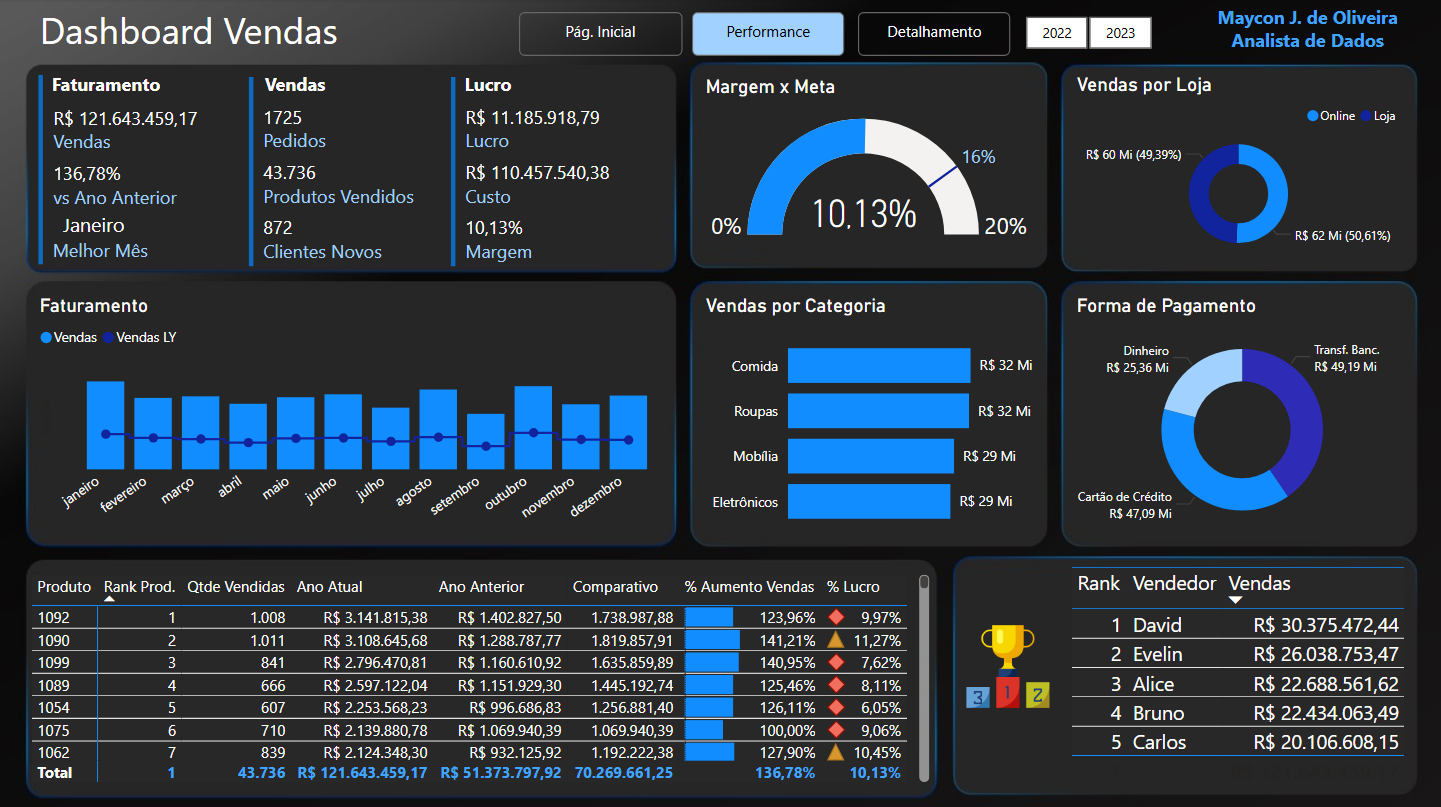

This screenshot's page, from the dashboard's own definition file:
{"tool":"powerbi","page":{"name":"Performance","canvas":[1280,720],"ordinal":1},"visuals":[{"type":"gauge","title":"Margem x Meta","fields":{"Y":["#Medidas.Margem"],"TargetValue":["#Medidas.Meta"]},"box":[621.8,67.3,300.9,166.4],"z":0},{"type":"lineStackedColumnComboChart","title":"Faturamento","fields":{"Y":["#Medidas.Faturamento"],"Y2":["#Medidas.Vendas LY"],"Category":["dim_calendario.Date.Variation.Hierarquia de datas.Mês"]},"box":[30.9,261.8,566.4,214.5],"z":1000},{"type":"barChart","fields":{"Y":["#Medidas.Vendas"],"Category":["Vendas.Categoria"]},"box":[621.8,261.8,308.2,221.8],"z":2000},{"type":"donutChart","fields":{"Y":["#Medidas.Vendas"],"Category":["Vendas.Loja"]},"box":[950.9,65.5,297.3,168.2],"z":3000},{"type":"pivotTable","fields":{"Rows":["Base_Vendas.Produto_ID"],"Values":["#Medidas.Rank Produtos","#Medidas.Produtos_Vendidos","#Medidas.Vendas","#Medidas.Vendas LY","#Medidas.Vendas LY Delta","#Medidas.Vendas LY Delta %","#Medidas.Margem"]},"box":[23.9,505.4,806,194.2],"z":4000},{"type":"donutChart","title":"Forma de Pagamento","fields":{"Category":["Vendas.Pagamento"],"Y":["#Medidas.Vendas"]},"box":[950.9,261.8,303.6,221.8],"z":5000},{"type":"multiRowCard","fields":{"Values":["#Medidas.Vendas","#Medidas.Vendas LY Delta %"]},"box":[30.9,90,156.4,171.8],"z":6000},{"type":"multiRowCard","fields":{"Values":["#Medidas.Pedidos","#Medidas.Produtos_Vendidos","#Medidas.Clientes_Novos"]},"box":[217.3,89.1,178.2,172.7],"z":7000},{"type":"multiRowCard","fields":{"Values":["#Medidas.Profit/Lucro","#Medidas.Custo Vendas","#Medidas.Margem Bruta"]},"box":[396.4,89.1,164.5,160.9],"z":8000},{"type":"card","fields":{"Values":["Min(dim_calendario.Nome do Mês)"]},"box":[17.3,184.5,133.6,36.4],"z":9000},{"type":"slicer","fields":{"Values":["dim_calendario.Ano"]},"box":[884.5,9.1,160.9,41.8],"z":10000},{"type":"textbox","box":[30.9,0,364.5,59.1],"z":11000},{"type":"textbox","box":[37.3,59.1,527.3,39.1],"z":12000},{"type":"textbox","box":[42.3,206.6,108.4,44],"z":13000},{"type":"shape","box":[30.9,67.3,11.8,168.2],"z":14000},{"type":"shape","box":[217.3,69.1,12.7,168.2],"z":15000},{"type":"shape","box":[396.4,69.1,12.7,168.2],"z":16000},{"type":"tableEx","fields":{"Values":["#Medidas.Rank Vendedor","Base_Vendas.Vendedor","#Medidas.Vendas"]},"box":[945.2,498.3,308.6,221.7],"z":17000},{"type":"textbox","box":[1045.5,0,234.5,59.1],"z":18000},{"type":"textbox","box":[614.5,11.8,135.5,39.1],"z":19000},{"type":"textbox","box":[761.8,11.8,135.5,39.1],"z":20000},{"type":"image","box":[851.8,505.5,85.5,172.7],"z":21000},{"type":"textbox","box":[461.1,11.5,144.5,39],"z":22000},{"type":"actionButton","box":[461.1,11.3,145.1,40.3],"z":23000},{"type":"actionButton","box":[762.5,11.3,135.4,40.3],"z":24000}]}

Visuals, with their boxes in screenshot pixels (x1, y1, x2, y2), scaled from the page's 1280x720 canvas onto the 1441x807 screenshot:
"Margem x Meta" gauge: {"x1": 700, "y1": 75, "x2": 1039, "y2": 262}
"Faturamento" lineStackedColumnComboChart: {"x1": 35, "y1": 293, "x2": 672, "y2": 534}
barChart - #Medidas.Vendas x Vendas.Categoria: {"x1": 700, "y1": 293, "x2": 1047, "y2": 542}
donutChart - #Medidas.Vendas x Vendas.Loja: {"x1": 1071, "y1": 73, "x2": 1405, "y2": 262}
pivotTable - Base_Vendas.Produto_ID x #Medidas.Rank Produtos: {"x1": 27, "y1": 566, "x2": 934, "y2": 784}
"Forma de Pagamento" donutChart: {"x1": 1071, "y1": 293, "x2": 1412, "y2": 542}
multiRowCard - #Medidas.Vendas x #Medidas.Vendas LY Delta %: {"x1": 35, "y1": 101, "x2": 211, "y2": 293}
multiRowCard - #Medidas.Pedidos x #Medidas.Produtos_Vendidos: {"x1": 245, "y1": 100, "x2": 445, "y2": 293}
multiRowCard - #Medidas.Profit/Lucro x #Medidas.Custo Vendas: {"x1": 446, "y1": 100, "x2": 631, "y2": 280}
card - Min(dim_calendario.Nome do Mês): {"x1": 19, "y1": 207, "x2": 170, "y2": 248}
slicer - dim_calendario.Ano: {"x1": 996, "y1": 10, "x2": 1177, "y2": 57}
textbox: {"x1": 35, "y1": 0, "x2": 445, "y2": 66}
textbox: {"x1": 42, "y1": 66, "x2": 636, "y2": 110}
textbox: {"x1": 48, "y1": 232, "x2": 170, "y2": 281}
shape: {"x1": 35, "y1": 75, "x2": 48, "y2": 264}
shape: {"x1": 245, "y1": 77, "x2": 259, "y2": 266}
shape: {"x1": 446, "y1": 77, "x2": 461, "y2": 266}
tableEx - #Medidas.Rank Vendedor x Base_Vendas.Vendedor: {"x1": 1064, "y1": 559, "x2": 1412, "y2": 806}
textbox: {"x1": 1177, "y1": 0, "x2": 1440, "y2": 66}
textbox: {"x1": 692, "y1": 13, "x2": 844, "y2": 57}
textbox: {"x1": 858, "y1": 13, "x2": 1010, "y2": 57}
image: {"x1": 959, "y1": 567, "x2": 1055, "y2": 760}
textbox: {"x1": 519, "y1": 13, "x2": 682, "y2": 57}
actionButton: {"x1": 519, "y1": 13, "x2": 682, "y2": 58}
actionButton: {"x1": 858, "y1": 13, "x2": 1011, "y2": 58}
